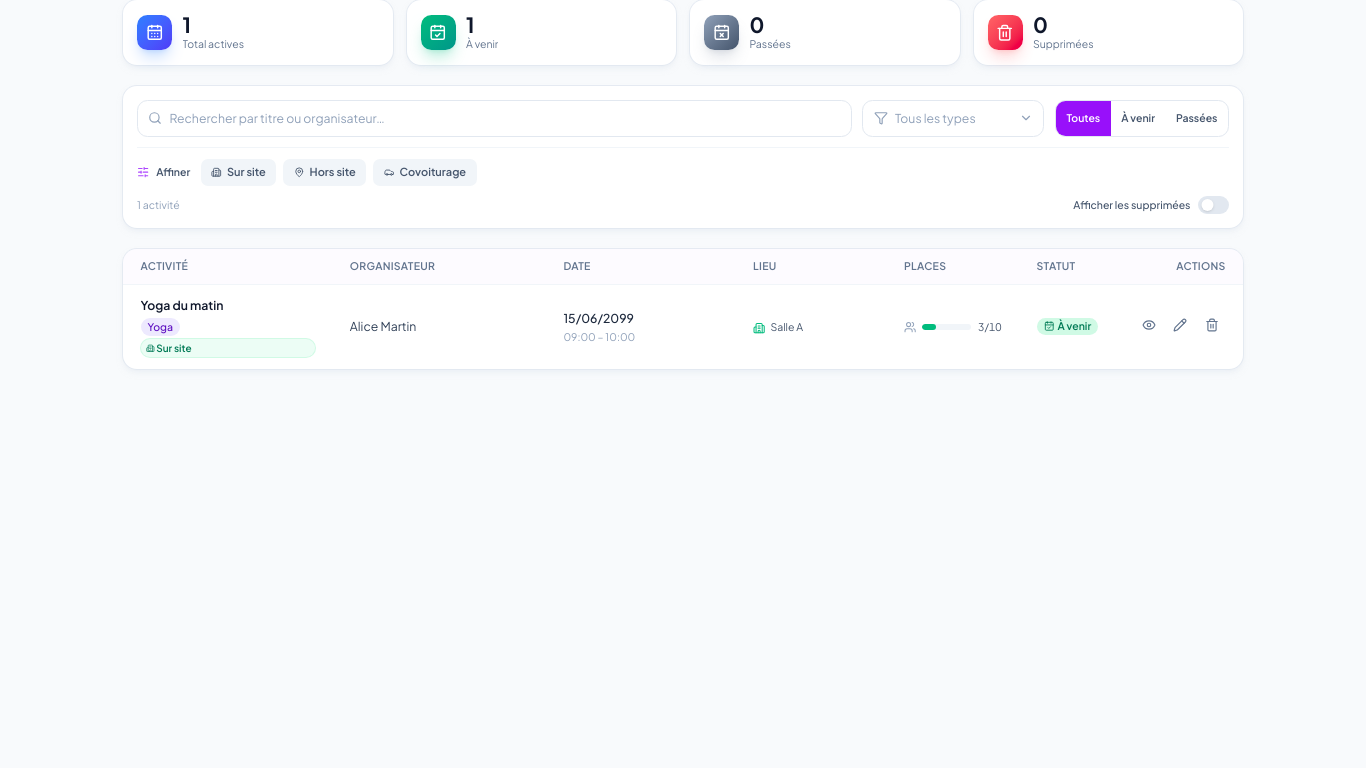
Test: AdminActivitiesPage › ouvre la boîte de dialogue de suppression via le bouton Supprimer
Click the button titled "Supprimer": {"x": 1212, "y": 325} [1198,311,1226,339]
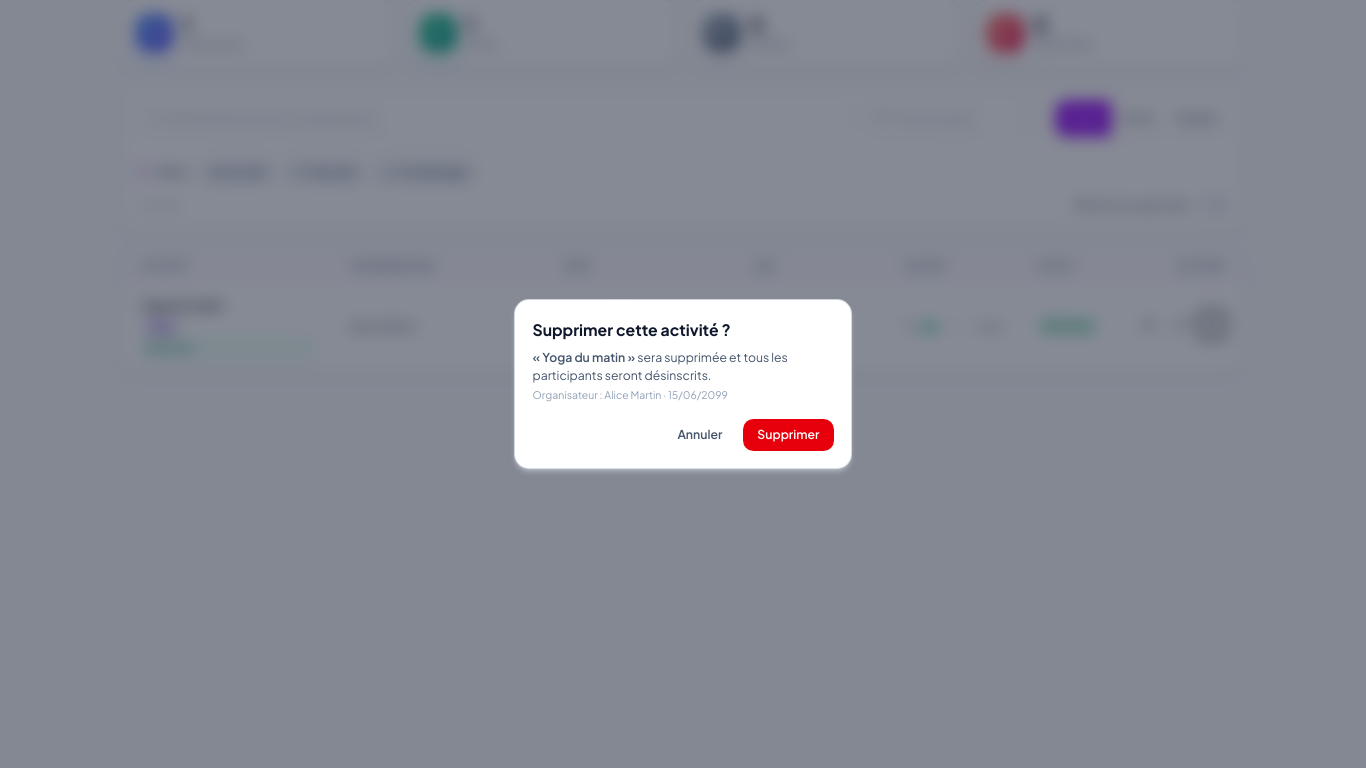
expect the heading "Supprimer cette activité ?" is shown: met, box [532,320,731,338]
